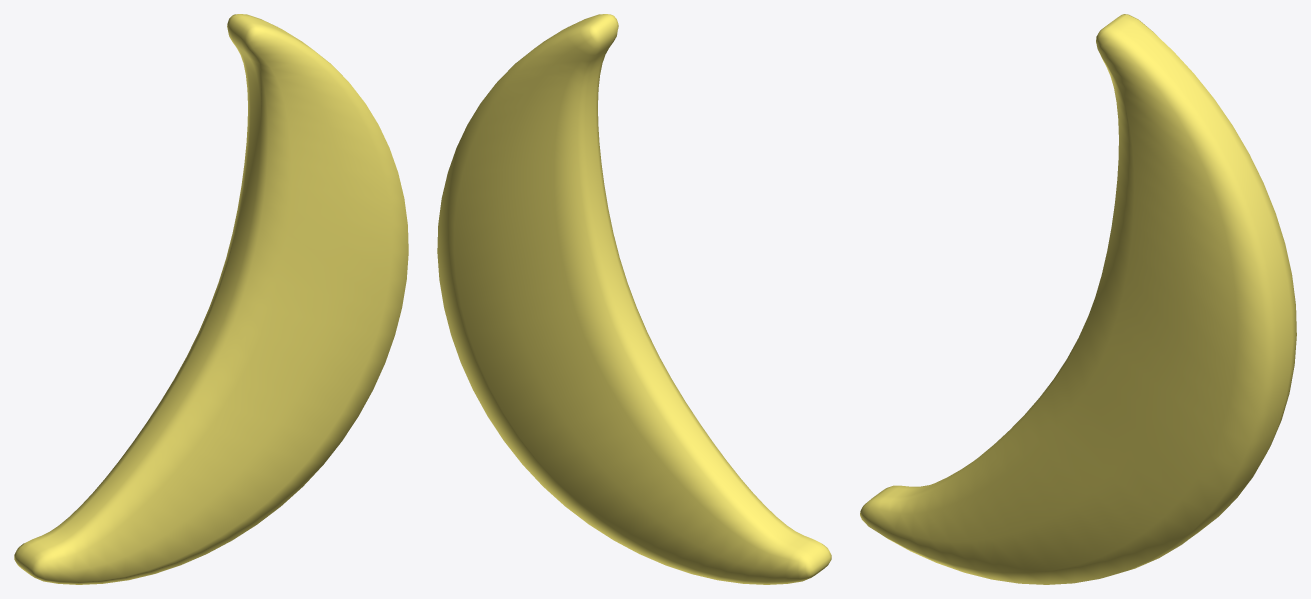
File: crescent_moon.fbx
The picture shows the model from 3 angles, left to right: view 1: azimuth 30°, elevation 25°; view 2: azimuth 150°, elevation 25°; view 3: azimuth 330°, elevation 25°; orthographic projection. The views are drawn at different scales.
Parts seen in each view (by area): view 1: Circle.2104; view 2: Circle.2104; view 3: Circle.2104.
Boxes of the visible parts, <box> form: Circle.2104: <box>14,14,408,584</box>; Circle.2104: <box>437,14,831,584</box>; Circle.2104: <box>860,14,1296,584</box>.
Size of the model in its own units: 178 by 238 by 32.12.
1 material, 1 textured.
